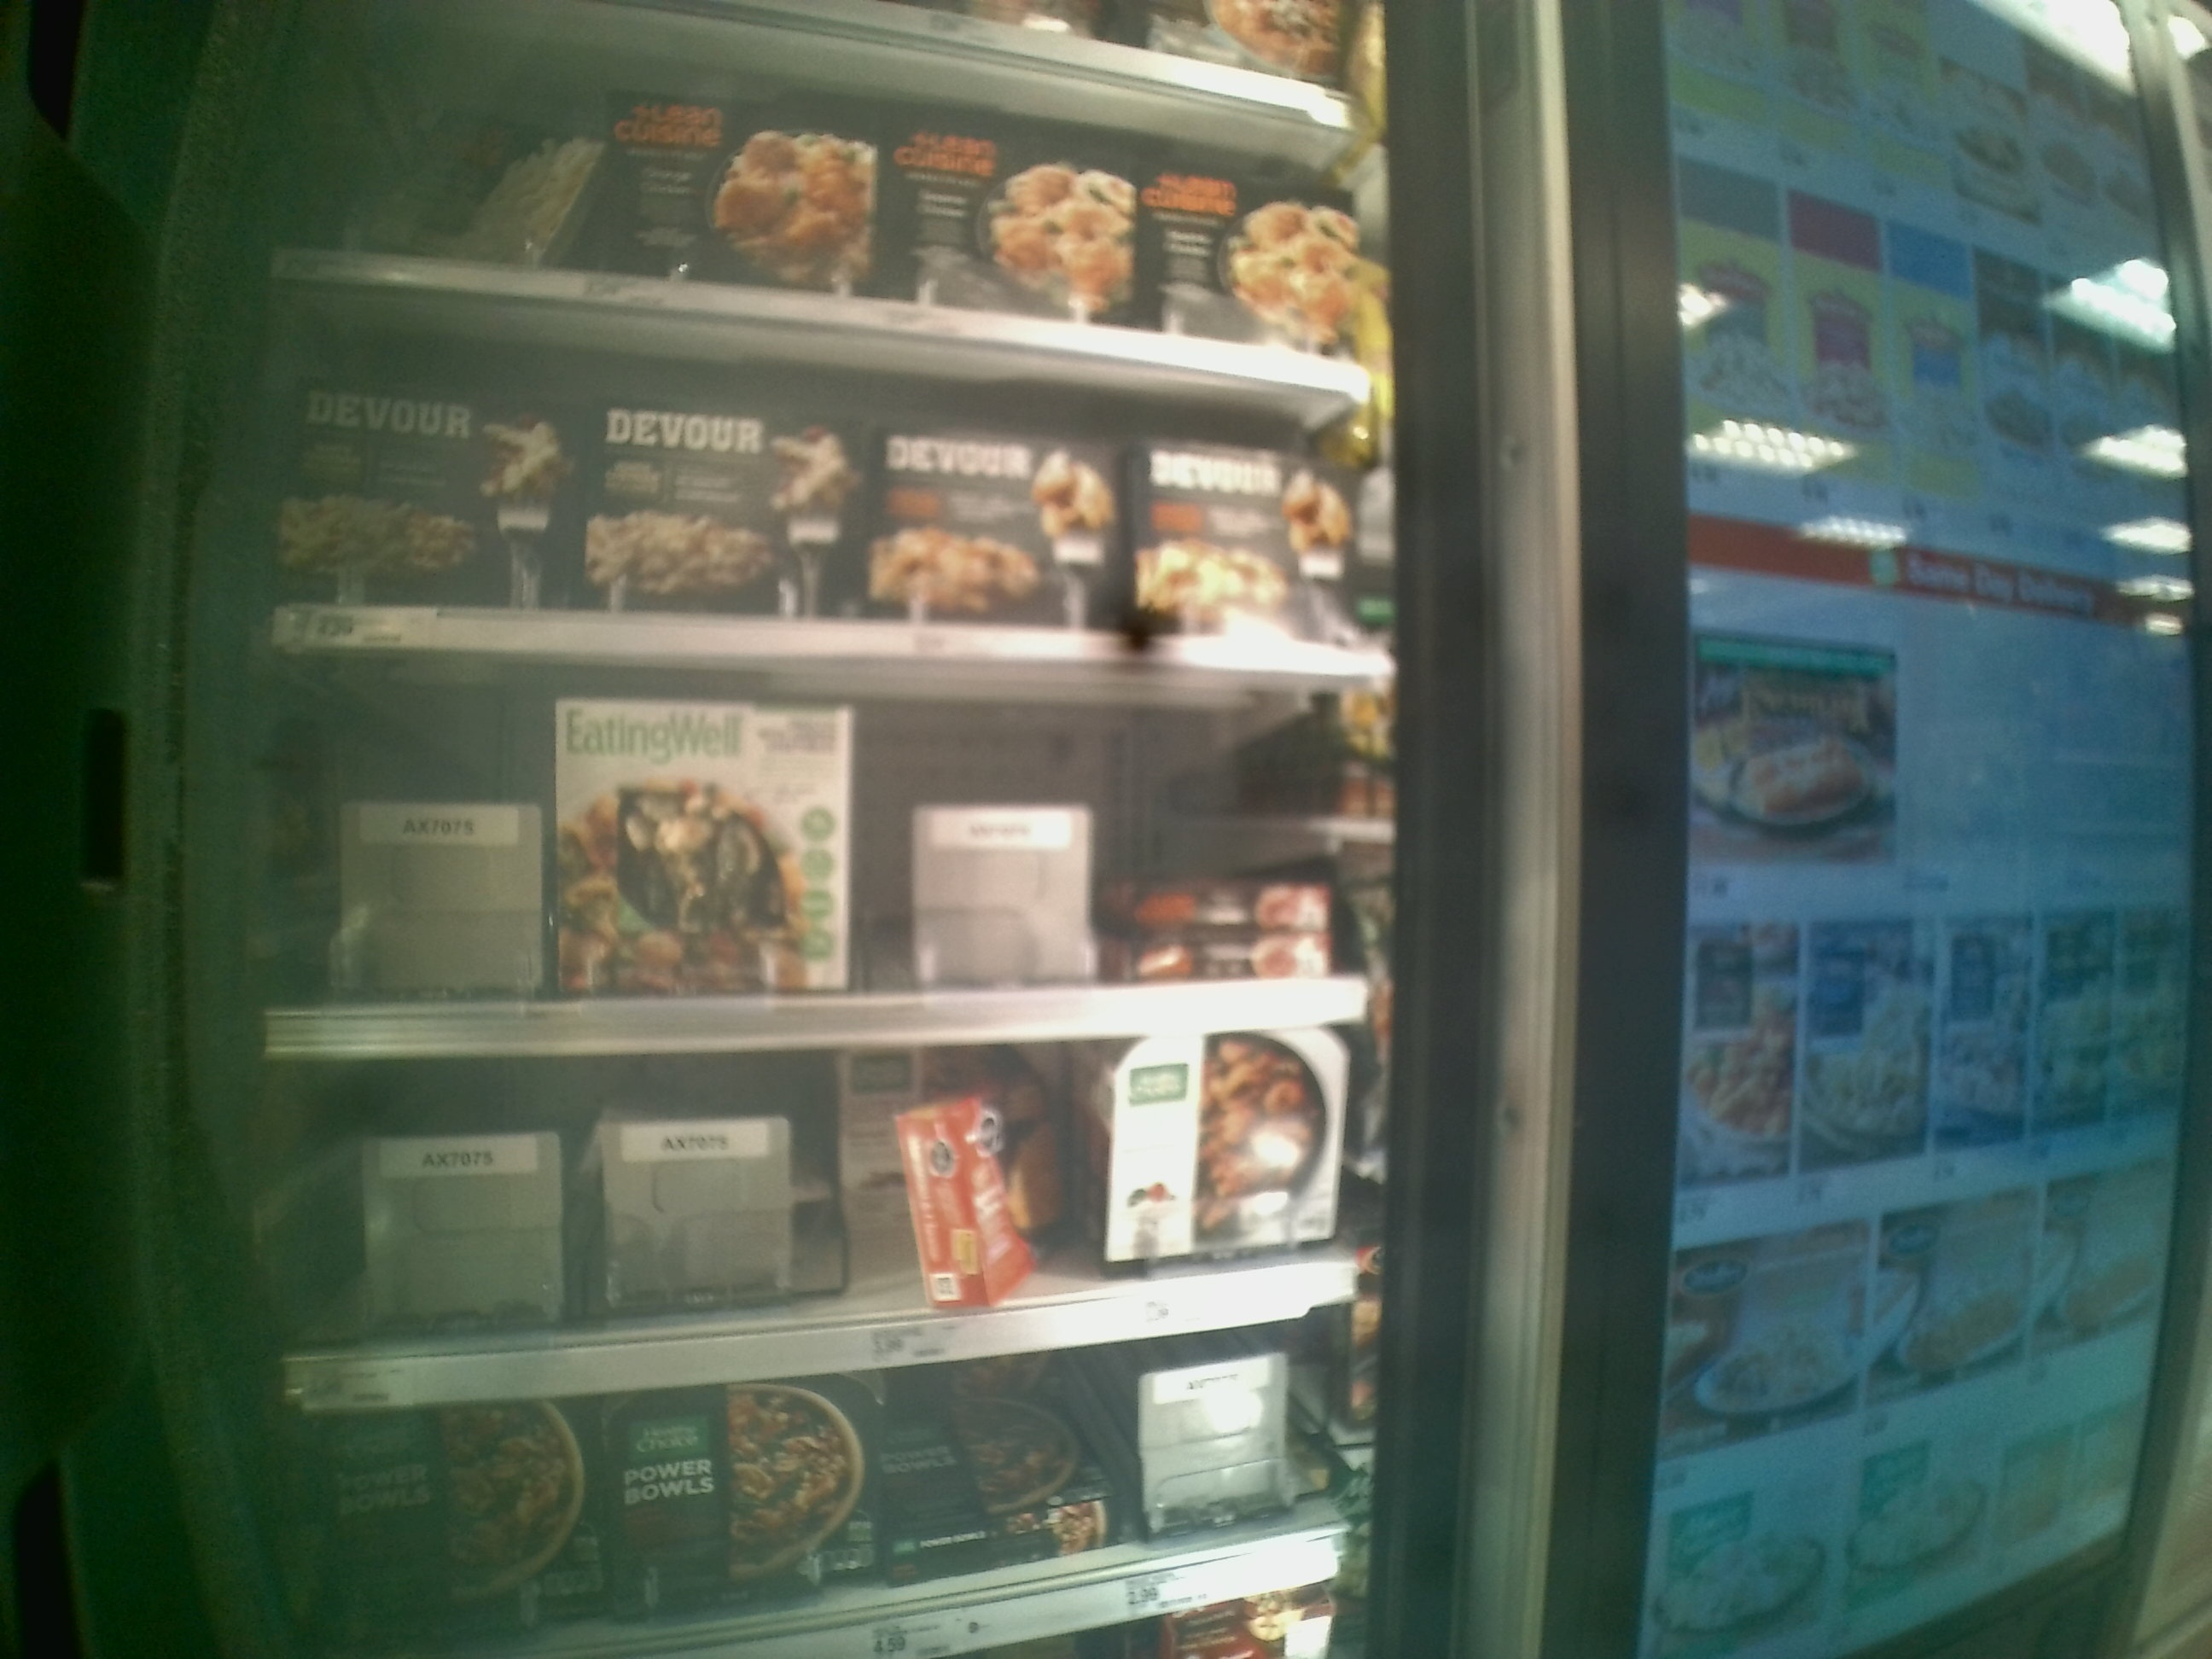shelf: (246, 648, 1416, 1053), (280, 254, 1385, 664), (254, 1019, 1395, 1401)
